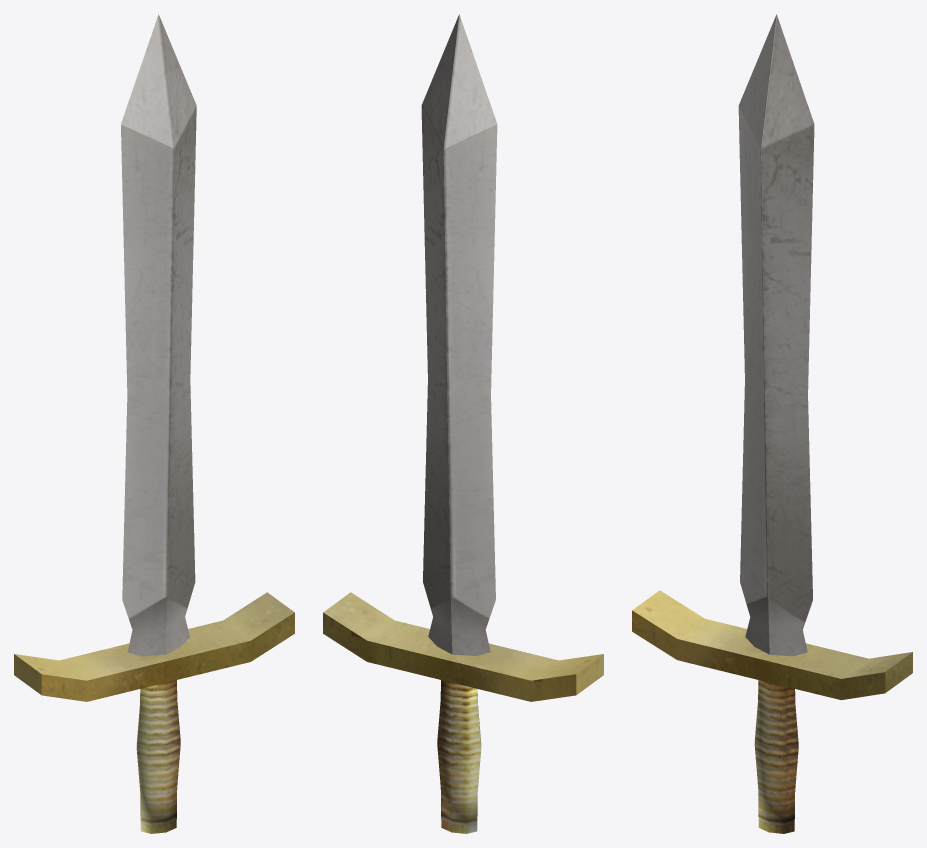
The model's file is long_sword.fbx.
The picture shows the model from 3 angles, left to right: view 1: azimuth 30°, elevation 25°; view 2: azimuth 150°, elevation 25°; view 3: azimuth 330°, elevation 25°; orthographic projection.
Visible parts, largest first — view 1: long_sword; view 2: long_sword; view 3: long_sword.
Part boxes in pixels (box(x1,y1,x2,y2)): long_sword: box(14, 14, 294, 833); long_sword: box(323, 14, 603, 833); long_sword: box(632, 14, 912, 833).
Size of the model in its own units: 35.79 by 110 by 7.7.
